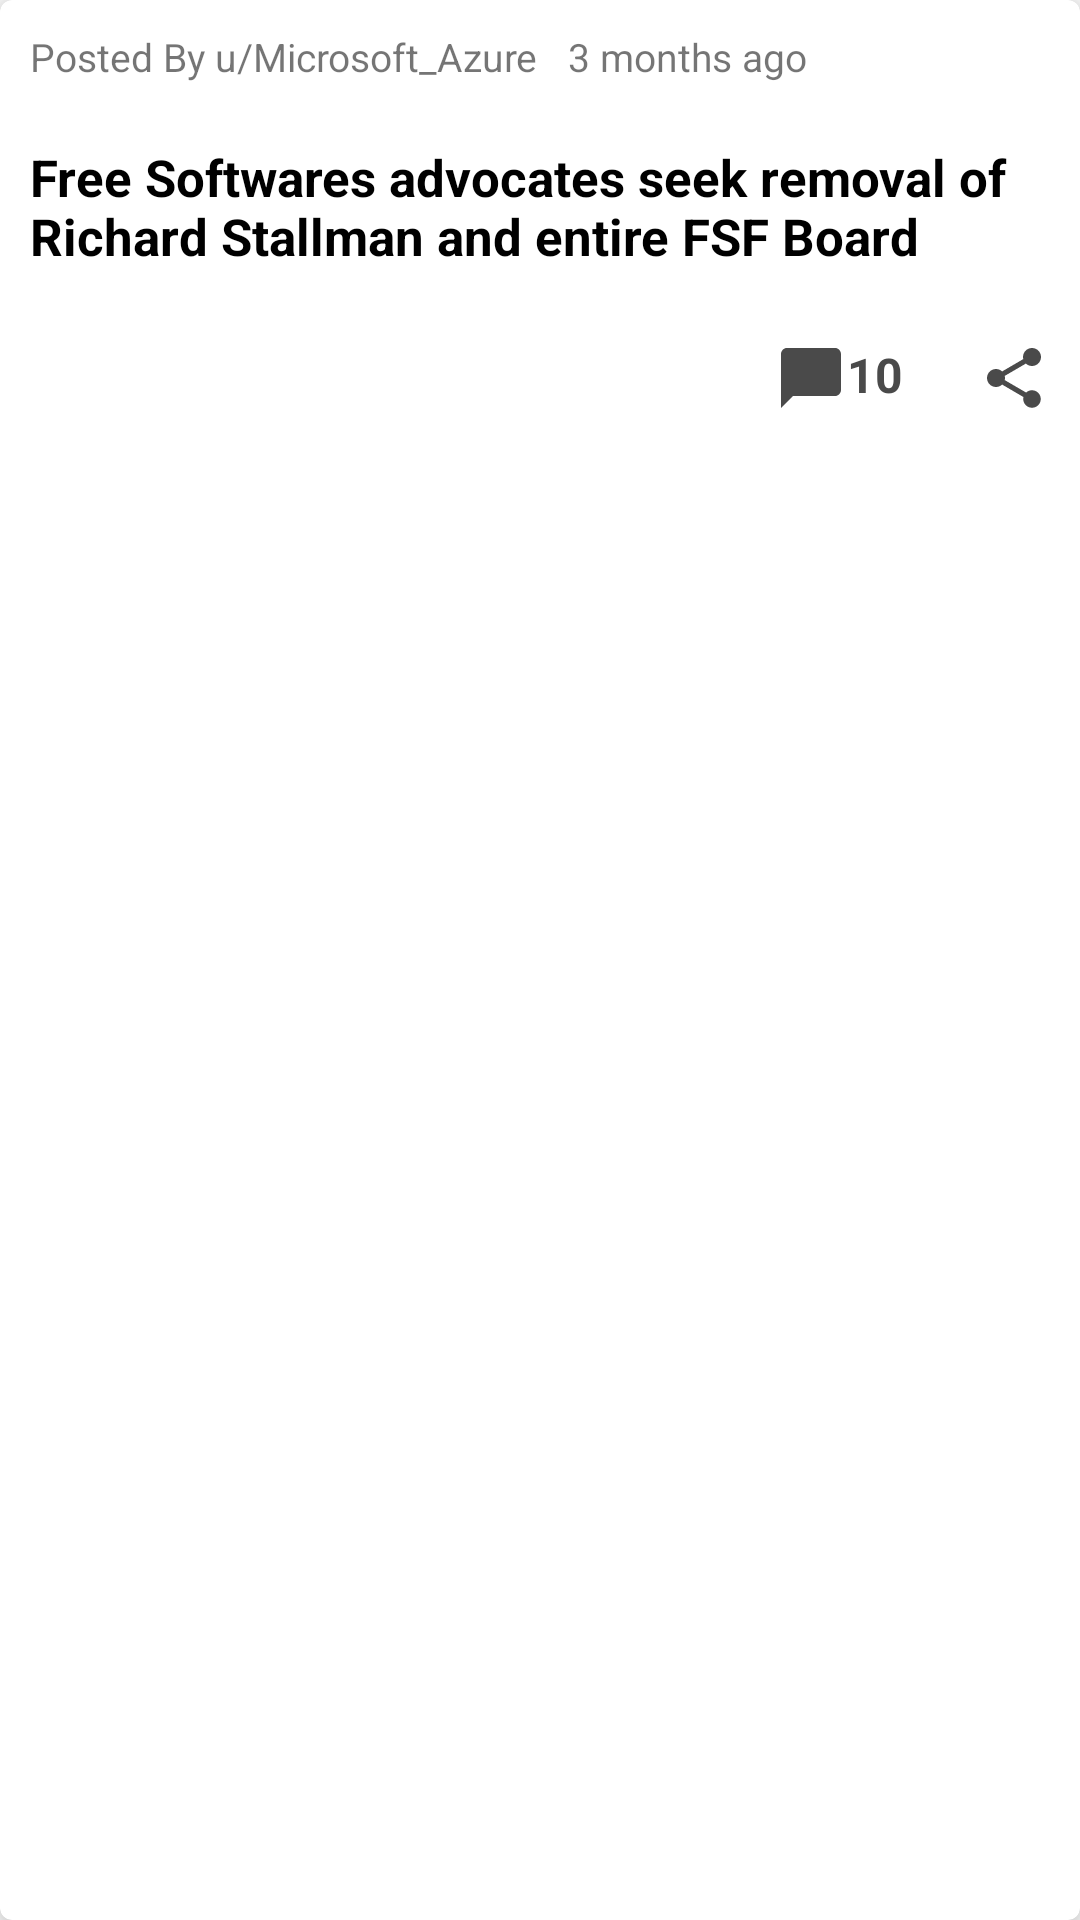

Where to tap for icons on this 1080×1920 app screen, as (x,y):
chat: (811,378)
share: (1014,378)
